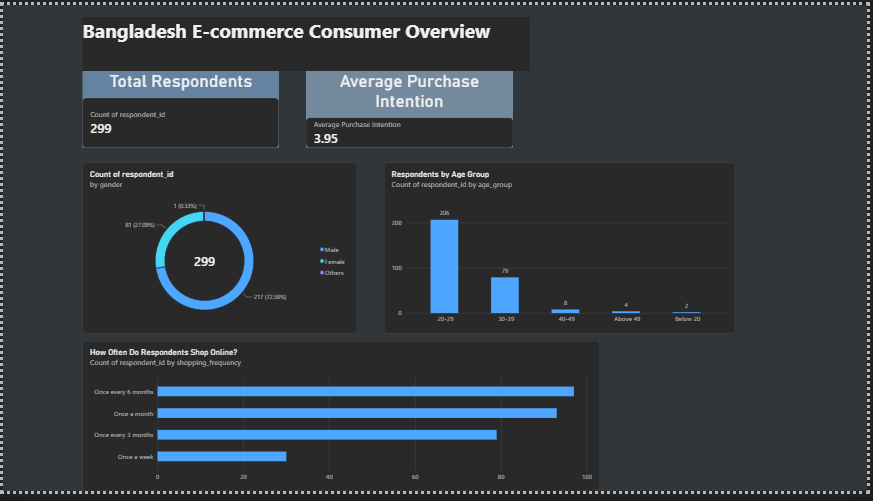

Layout of this report page (visuals, bound fields, positions):
{"tool":"powerbi","page":{"name":"Page 1","canvas":[1920,1080],"ordinal":0},"visuals":[{"type":"cardVisual","title":"Total Respondents","fields":{"Data":["CountNonNull(public survey_respondents.respondent_id)"]},"box":[176.7,146.7,436.7,170],"z":0},{"type":"donutChart","fields":{"Category":["public survey_respondents.gender"],"Y":["CountNonNull(public survey_respondents.respondent_id)"]},"box":[176.7,350,610,380],"z":1},{"type":"clusteredColumnChart","title":"Respondents by Age Group","fields":{"Category":["public survey_respondents.age_group"],"Y":["CountNonNull(public survey_respondents.respondent_id)"]},"box":[846.7,350,780,380],"z":2},{"type":"clusteredBarChart","title":"How Often Do Respondents Shop Online?","fields":{"Category":["public survey_respondents.shopping_frequency"],"Y":["CountNonNull(public survey_respondents.respondent_id)"]},"box":[176.7,746.7,1150,333.3],"z":3},{"type":"cardVisual","title":"Average Purchase Intention","fields":{"Data":["public survey_answers.Average Purchase Intention"]},"box":[673.3,146.7,460,170],"z":4},{"type":"textbox","box":[176.7,26.7,993.3,120],"z":5}]}

Visuals, with their boxes in screenshot pixels (x1, y1, x2, y2), scaled from the page's 1920x1080 canvas onto the 873x501 screenshot:
"Total Respondents" cardVisual: (x1=80, y1=68, x2=279, y2=147)
donutChart - public survey_respondents.gender x CountNonNull(public survey_respondents.respondent_id): (x1=80, y1=162, x2=358, y2=339)
"Respondents by Age Group" clusteredColumnChart: (x1=385, y1=162, x2=740, y2=339)
"How Often Do Respondents Shop Online?" clusteredBarChart: (x1=80, y1=346, x2=603, y2=500)
"Average Purchase Intention" cardVisual: (x1=306, y1=68, x2=515, y2=147)
textbox: (x1=80, y1=12, x2=532, y2=68)
